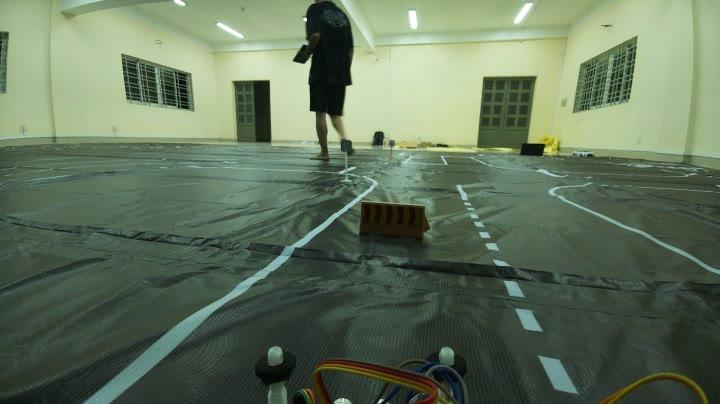roadblock: (353, 187, 440, 256)
